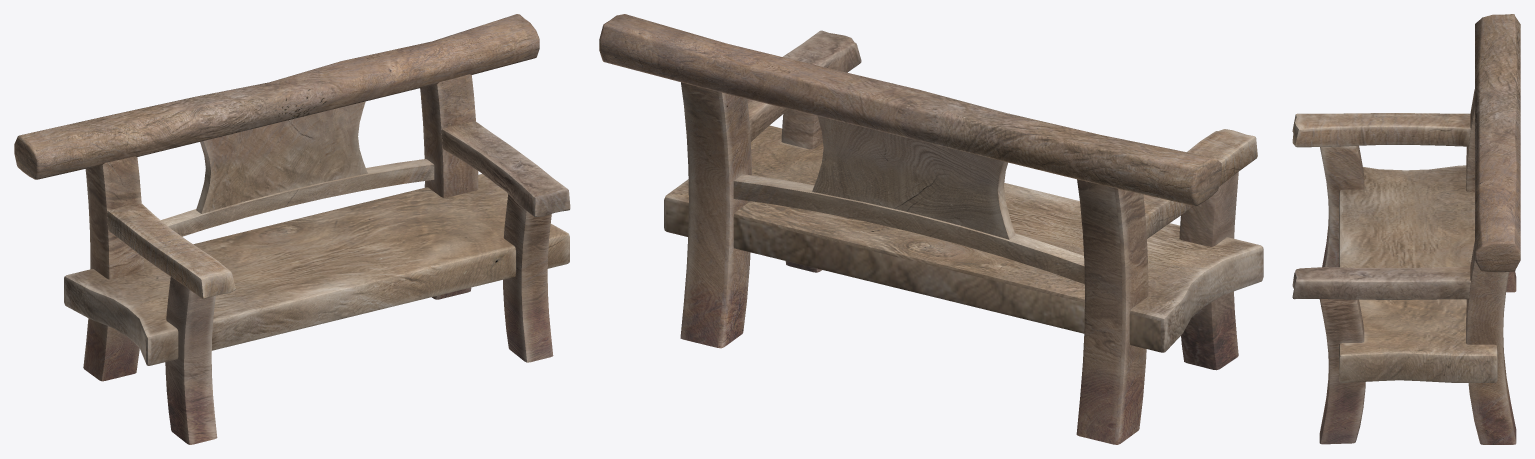
File: bench1.FBX
3 renders of one model, left to right at view 1: azimuth 30°, elevation 25°; view 2: azimuth 150°, elevation 25°; view 3: azimuth 270°, elevation 25°, orthographic. The views are drawn at different scales.
Parts seen in each view (by area): view 1: bench1; view 2: bench1; view 3: bench1.
Boxes of the visible parts, box(x1,y1,x2,y2) form: bench1: box(14, 14, 570, 444); bench1: box(599, 14, 1263, 444); bench1: box(1292, 14, 1520, 444).
Bounding box in the file's own units: 106 × 44.42 × 50.3.
